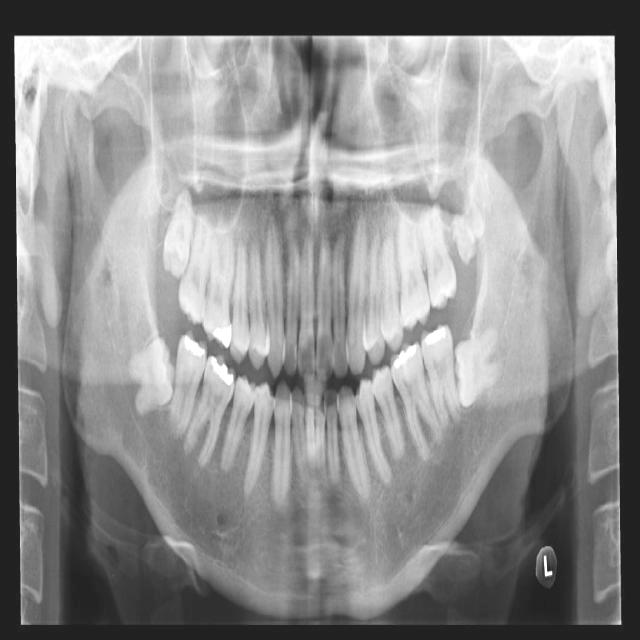Filling: (210, 355, 234, 386), (392, 343, 418, 367), (213, 322, 232, 350), (183, 335, 204, 356), (424, 328, 447, 345)
impacted tooth: (455, 319, 509, 403), (125, 336, 174, 414), (161, 189, 194, 277), (451, 205, 484, 260)
